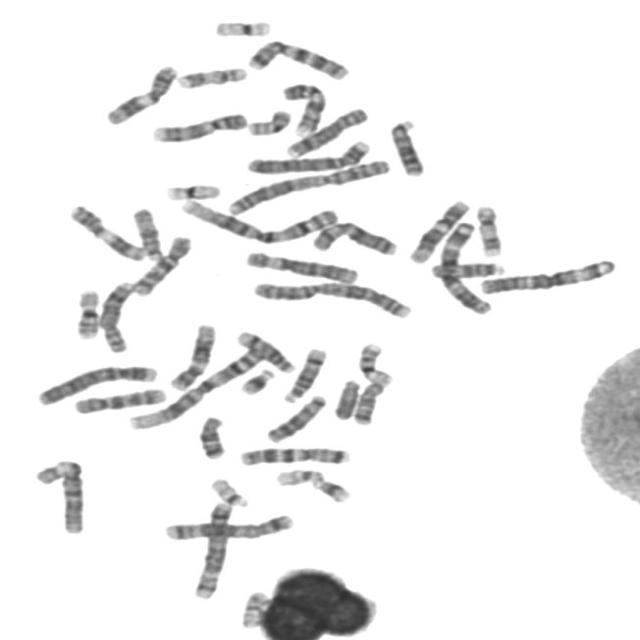A1: (124, 343, 268, 431), (174, 196, 340, 245)
A2: (222, 154, 394, 216), (248, 276, 417, 320)
A3: (434, 217, 496, 316), (475, 254, 620, 296)
B4: (33, 361, 161, 407), (242, 136, 373, 176)
B5: (188, 497, 235, 601), (160, 510, 296, 543)
C10: (128, 232, 194, 298), (70, 384, 169, 416)
C11: (100, 61, 181, 127), (65, 201, 150, 263)
C12: (406, 196, 472, 265), (166, 319, 219, 392)
C6: (30, 456, 90, 536), (241, 248, 361, 286)
C7: (244, 36, 352, 82), (235, 443, 352, 467)
C8: (282, 103, 371, 160), (96, 278, 136, 354)
C9: (148, 110, 250, 144), (278, 79, 330, 136)
D13: (262, 390, 330, 444), (386, 115, 427, 178)
D14: (231, 327, 297, 374), (280, 344, 330, 404)
D15: (127, 204, 166, 262), (425, 258, 508, 280)
E16: (354, 340, 396, 386), (70, 284, 103, 340)
E17: (174, 64, 249, 90), (472, 202, 505, 259)
E18: (348, 377, 392, 426), (194, 412, 229, 460)
F19: (209, 15, 274, 39), (161, 180, 223, 202)
F20: (230, 586, 280, 628), (244, 106, 294, 137)
G21: (308, 474, 354, 504), (236, 364, 276, 397)
G22: (206, 474, 251, 508), (271, 465, 327, 488)
X: (306, 218, 400, 258)
Y: (330, 376, 362, 422)
